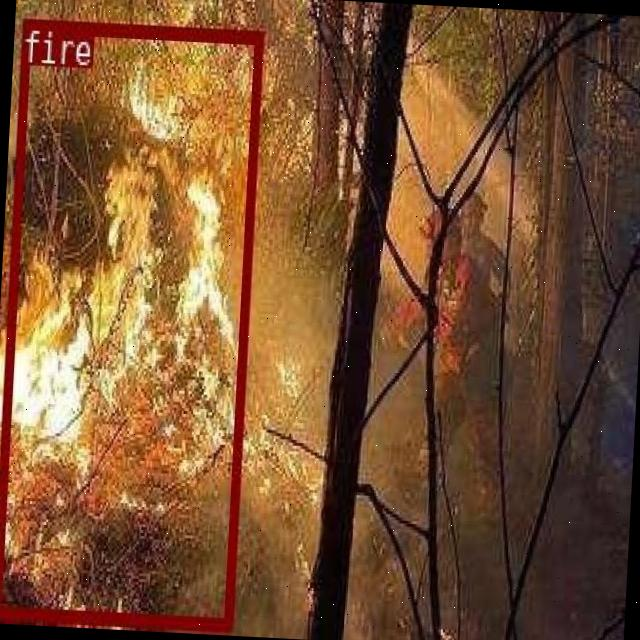fire: (0, 16, 261, 629)
